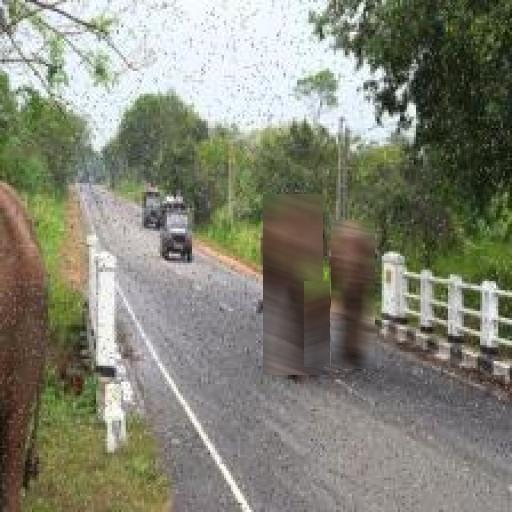Elephant: (263, 194, 323, 375), (331, 220, 375, 369), (304, 281, 330, 367)
